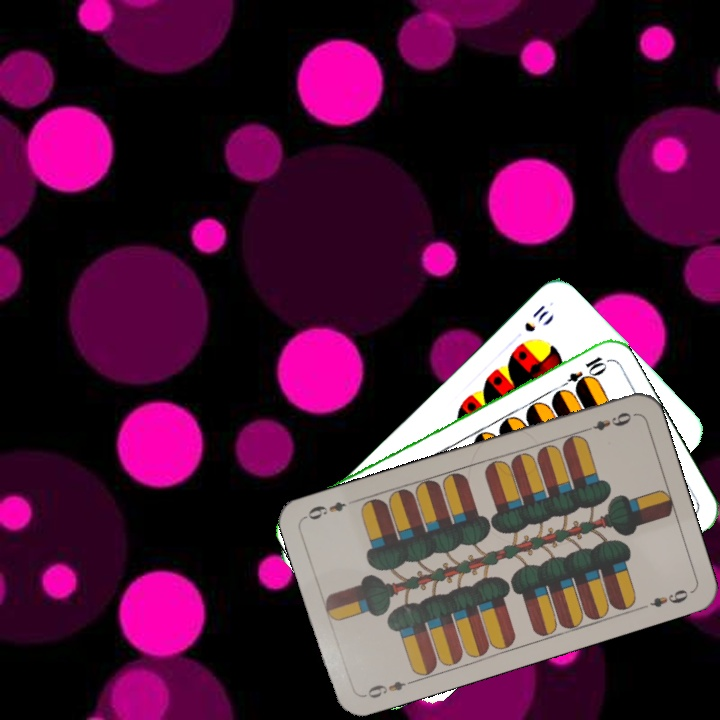E10: (554, 352, 608, 392)
E9: (579, 408, 637, 435), (359, 676, 417, 701)
S10: (520, 300, 552, 335)
